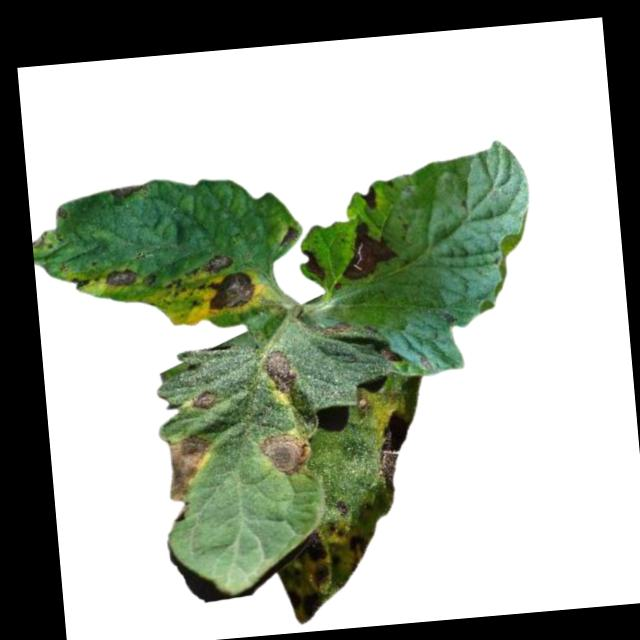Early_blight: (336, 218, 399, 280), (161, 433, 217, 501), (373, 409, 414, 493), (280, 564, 334, 626), (198, 271, 257, 316), (259, 430, 312, 479), (259, 346, 299, 396), (346, 534, 370, 573), (302, 527, 327, 563), (299, 247, 324, 280), (104, 266, 138, 289), (311, 319, 354, 337), (201, 252, 235, 273), (191, 387, 219, 412), (109, 183, 149, 198), (375, 341, 401, 364), (361, 184, 379, 211), (71, 272, 92, 291)
